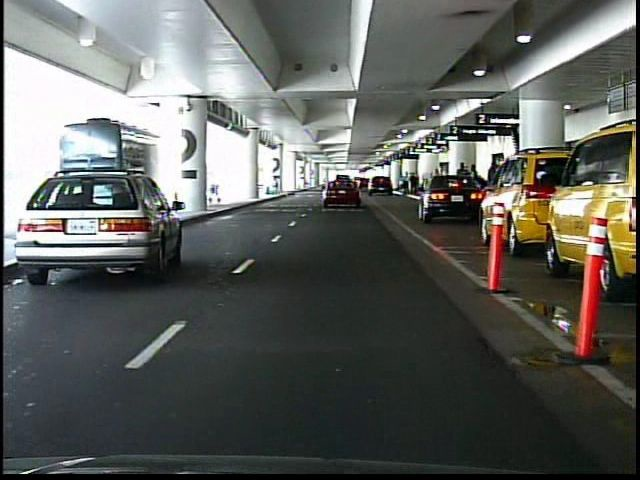person: (455, 162, 472, 205), (468, 164, 482, 205), (402, 172, 411, 196), (410, 173, 418, 197)
